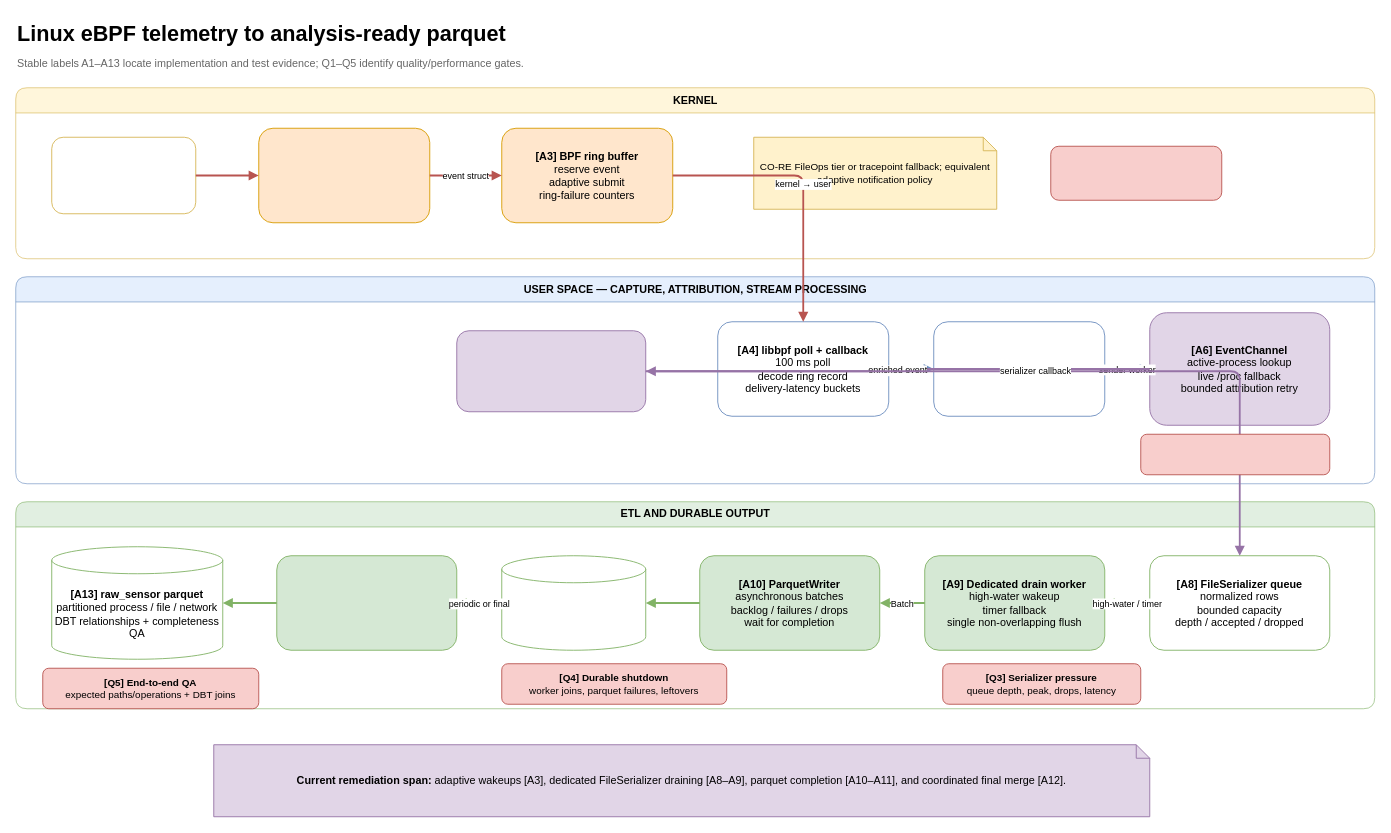
Some shapes in this 1391 by 833 pixel diagram are drawn without their labels. Here are the shapes that lost their labels. From the top down, the centre of each, then its label:
At point 123,175: "[A1] Host activity process lifecycle file + socket syscalls".
At point 344,175: "[A2] eBPF hooks tracepoint / kprobe policy + identity fields monotonic timestamp".
At point 1136,172: "[Q1] Transit delivery latency; ring failures".
At point 551,371: "[A7] Esper / NEsper EPL routing, windows, aggregation and serializer callback".
At point 1019,368: "[A5] Sensor handling path/fd resolution aggregation bounded sender queue".
At point 1235,454: "[Q2] Attribution orphan / Unknown PID hashes".
At point 366,602: "[A12] CacheManager merge stop worker RawSensorWriter retain sources on failure".
At point 573,602: "[A11] Runtime staging .parquet.active → finalized .parquet".
